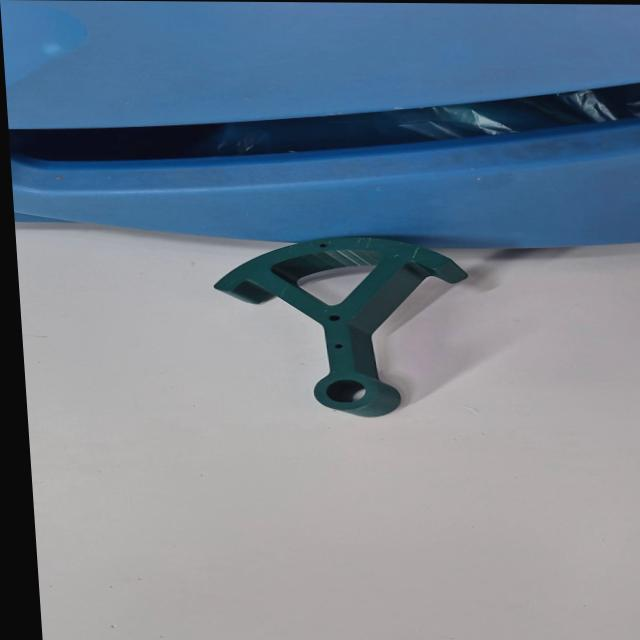haptic: (209, 235, 480, 419)
